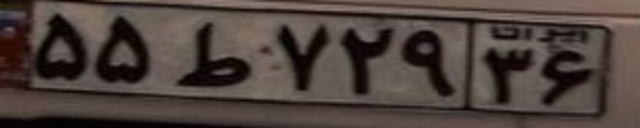2: (337, 25, 397, 96)
3: (479, 45, 536, 104)
5: (31, 12, 89, 82), (94, 14, 152, 84)
6: (538, 49, 596, 105)
7: (272, 23, 330, 92)
9: (399, 28, 458, 97)
taa: (175, 20, 254, 87)
